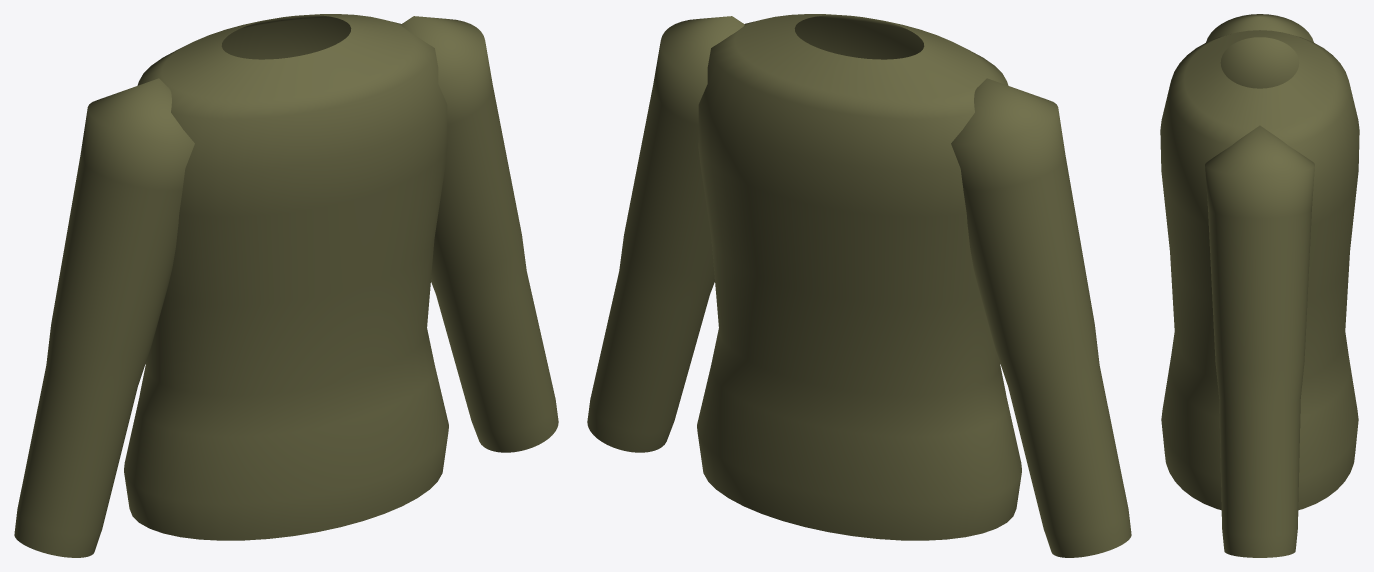
File: olive_longsleeve.glb
The picture shows the model from 3 angles, left to right: view 1: azimuth 30°, elevation 25°; view 2: azimuth 150°, elevation 25°; view 3: azimuth 270°, elevation 25°; orthographic projection. The views are drawn at different scales.
Parts seen in each view (by area): view 1: Shirt; view 2: Shirt; view 3: Shirt.
Boxes of the visible parts, box(x1,y1,x2,y2) form: Shirt: box(14, 14, 558, 557); Shirt: box(587, 14, 1131, 557); Shirt: box(1160, 14, 1359, 557).
Bounding box in the file's own units: 0.7196 × 0.5909 × 0.2682.
